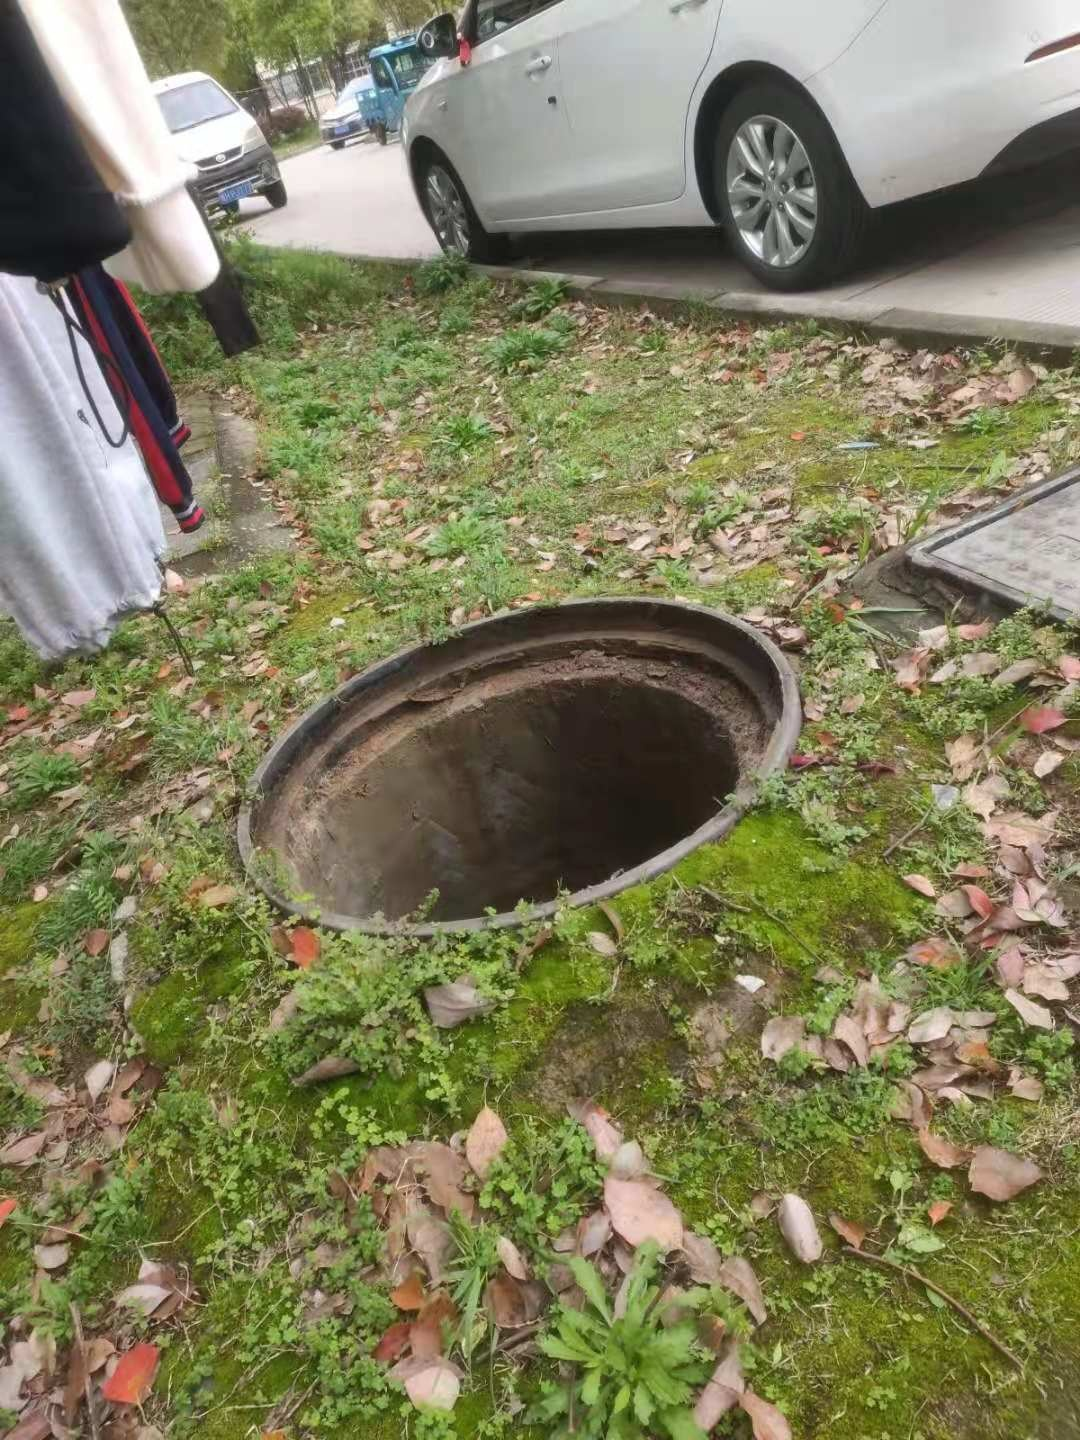lose: (233, 592, 798, 941)
